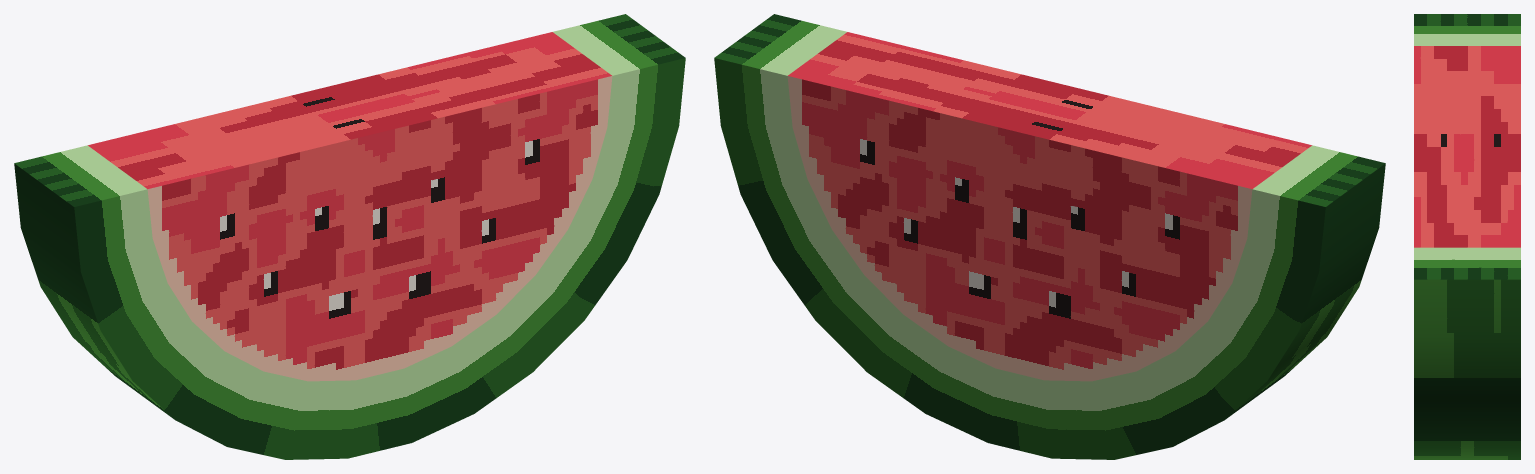
The model's file is produce-watermelon.glb.
3 views of the same model, side by side, from view 1: azimuth 30°, elevation 25°; view 2: azimuth 150°, elevation 25°; view 3: azimuth 270°, elevation 25° (orthographic). The views are drawn at different scales.
Visible parts, largest first — view 1: produce.watermelon; view 2: produce.watermelon; view 3: produce.watermelon.
Part boxes in pixels (x1,y1,x2,y2): produce.watermelon: (14,14,685,459); produce.watermelon: (714,14,1385,459); produce.watermelon: (1414,14,1520,459).
Size of the model in its own units: 1.77 by 0.8804 by 0.301.
Materials: 4 (4 with a texture image).
